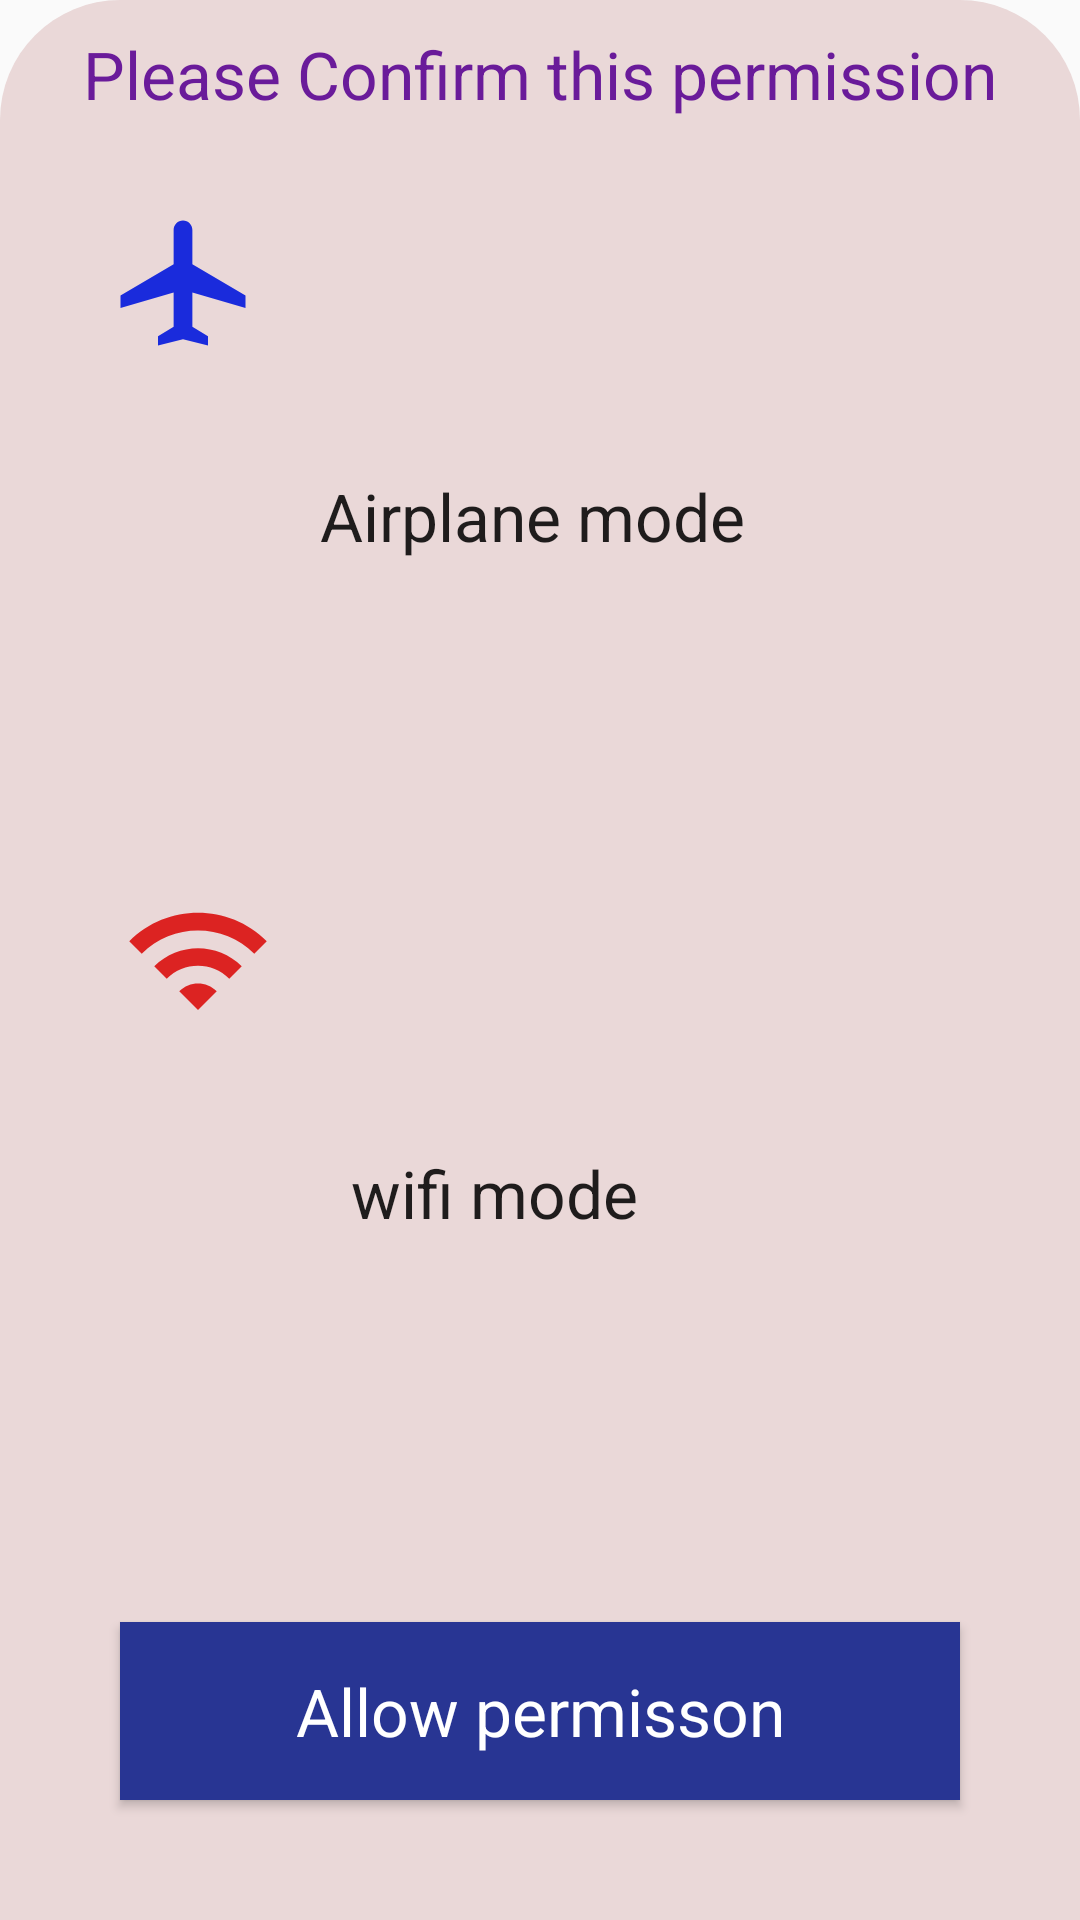

Point at icon controls on the screen. Image size 1080 × 1920, points as [x,y].
airlplane mode: [183,283]
